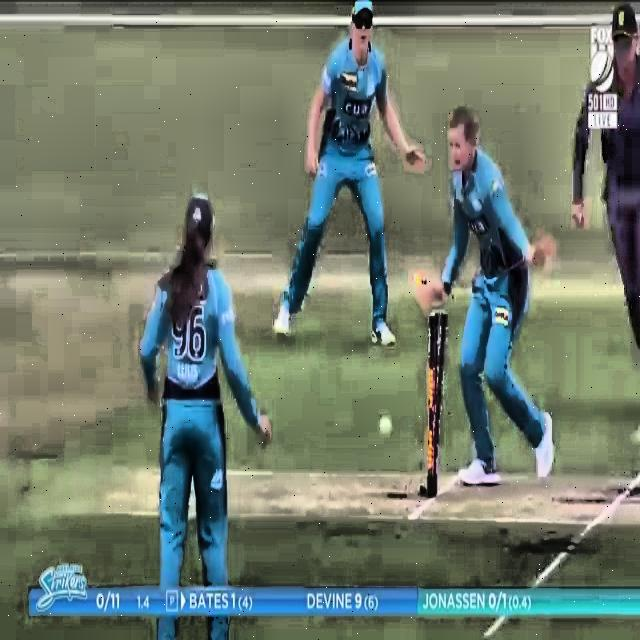Ball: (378, 410, 400, 442)
Dis_Wicket: (412, 304, 459, 502)
Pitch_Line: (481, 610, 509, 640)
